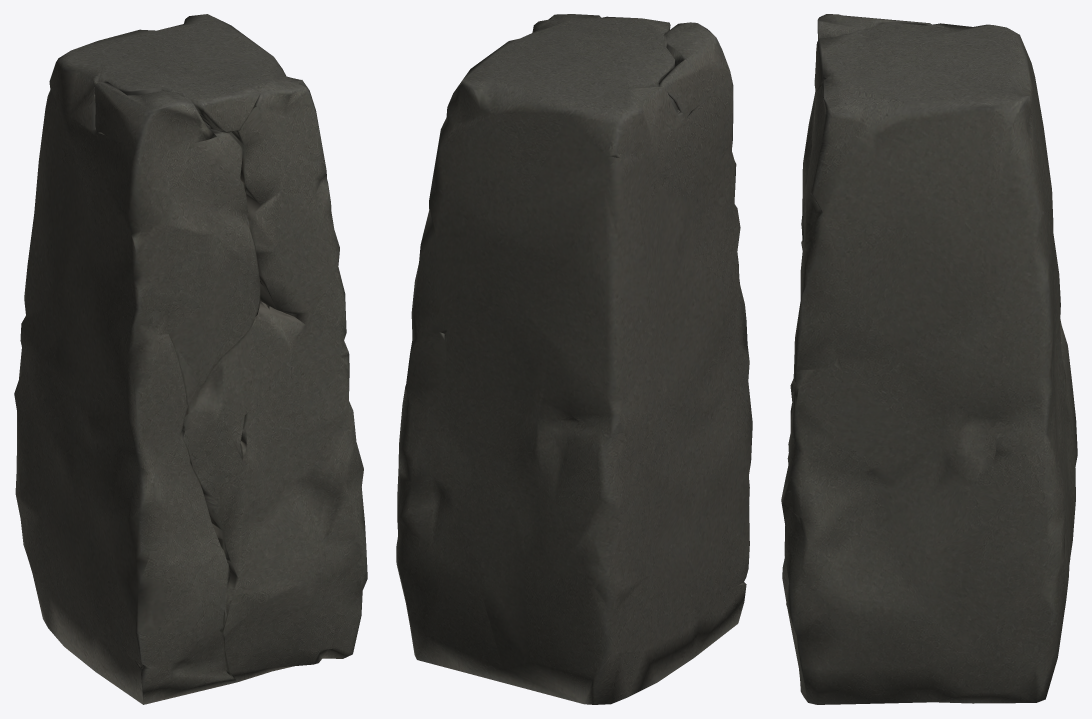
File: prp_lm_monolith_a.glb
The picture shows the model from 3 angles, left to right: view 1: azimuth 30°, elevation 25°; view 2: azimuth 150°, elevation 25°; view 3: azimuth 270°, elevation 25°; orthographic projection.
Parts seen in each view (by area): view 1: prp_lm_monolith_a; view 2: prp_lm_monolith_a; view 3: prp_lm_monolith_a.
Boxes of the visible parts, x1=… form: prp_lm_monolith_a: x1=14, y1=14, x2=367, y2=704; prp_lm_monolith_a: x1=396, y1=14, x2=752, y2=704; prp_lm_monolith_a: x1=781, y1=14, x2=1077, y2=704.
Bounding box in the file's own units: 5.06 × 12 × 5.39.
Materials: 1 (1 with a texture image).
